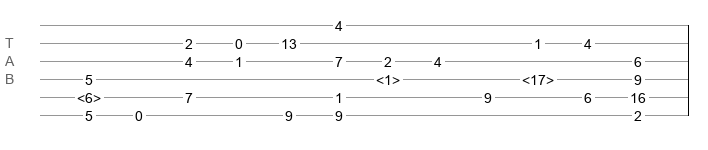0: (135, 108, 143, 118), (235, 36, 243, 46)
1: (235, 54, 243, 64), (335, 90, 343, 100), (534, 36, 542, 46)
13: (281, 36, 297, 46)
16: (630, 90, 646, 100)
2: (185, 36, 193, 46), (384, 54, 392, 64), (634, 108, 642, 118)
4: (185, 54, 193, 64), (335, 18, 343, 28), (434, 54, 442, 64), (584, 36, 592, 46)
5: (85, 72, 93, 82), (85, 108, 93, 118)
6: (584, 90, 592, 100), (634, 54, 642, 64)
7: (185, 90, 193, 100), (335, 54, 343, 64)
9: (285, 108, 293, 118), (335, 108, 343, 118), (484, 90, 492, 100), (634, 72, 642, 82)
harmonic: (522, 72, 554, 82), (77, 90, 101, 100), (376, 72, 400, 82)
